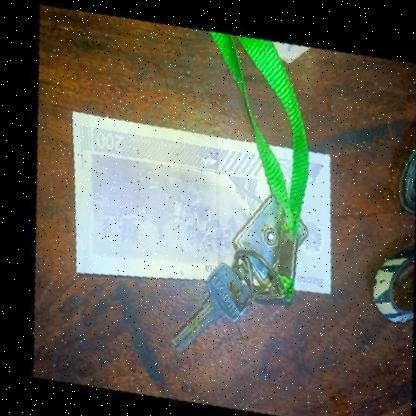two_hundred-back-vef: (34, 83, 358, 338)
